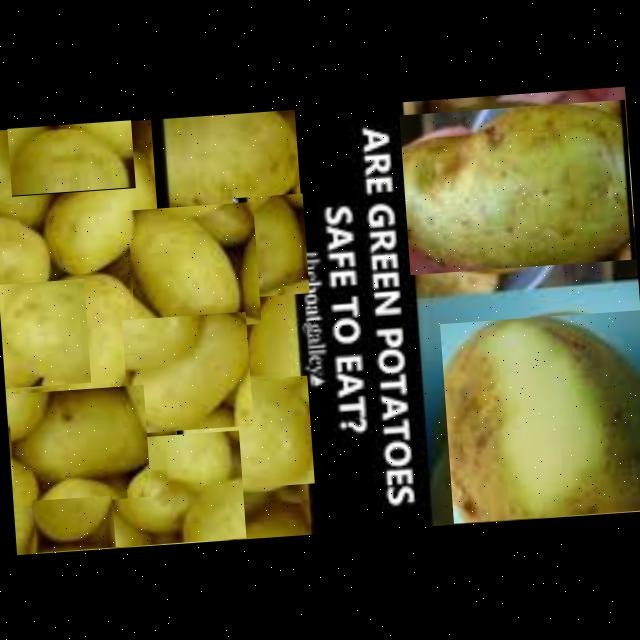Defected potato: (439, 309, 640, 523), (398, 100, 634, 274), (36, 148, 170, 292), (36, 255, 148, 418), (6, 384, 150, 506), (126, 202, 260, 332), (98, 430, 245, 548), (150, 110, 300, 220), (172, 375, 313, 492), (120, 312, 252, 434), (0, 278, 90, 388), (6, 120, 134, 196), (243, 269, 320, 384), (231, 193, 308, 298), (0, 203, 57, 324), (30, 495, 114, 553)
